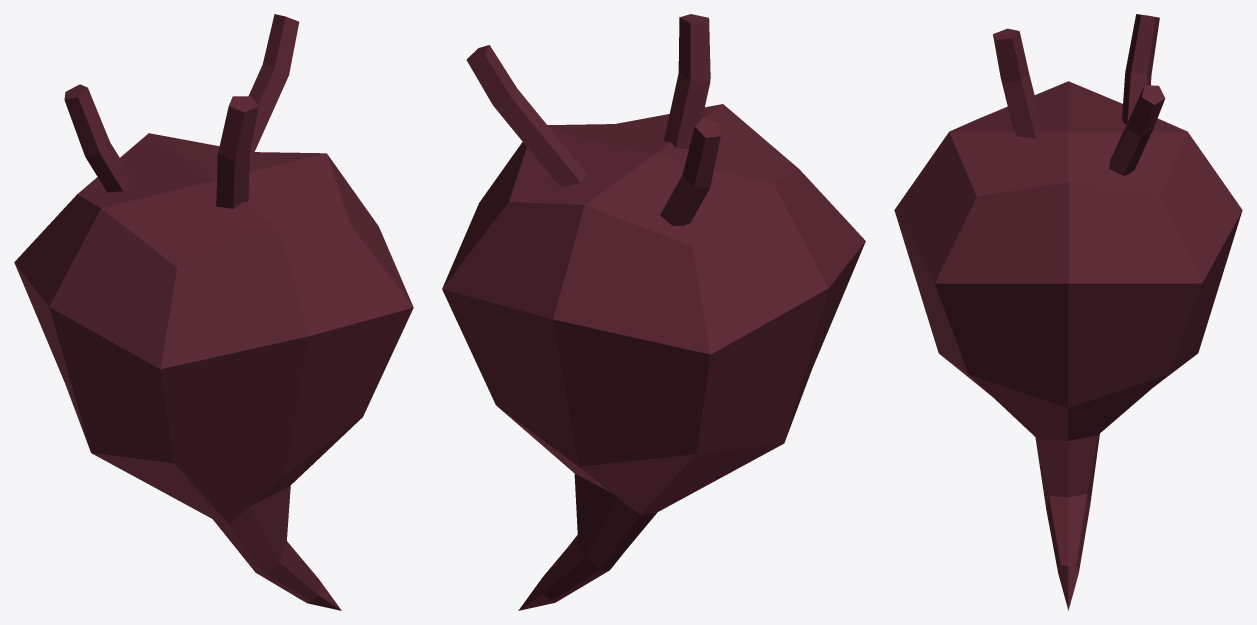
Rendered from beet_crop.glb.
3 views of the same model, side by side, from view 1: azimuth 30°, elevation 25°; view 2: azimuth 150°, elevation 25°; view 3: azimuth 270°, elevation 25° (orthographic). The views are drawn at different scales.
Parts seen in each view (by area): view 1: Beet_Crop; view 2: Beet_Crop; view 3: Beet_Crop.
Part boxes in pixels (x1,y1,x2,y2): Beet_Crop: [14, 14, 413, 610]; Beet_Crop: [442, 14, 865, 610]; Beet_Crop: [894, 14, 1242, 610].
Bounding box in the file's own units: 0.3156 × 0.5194 × 0.3156.
